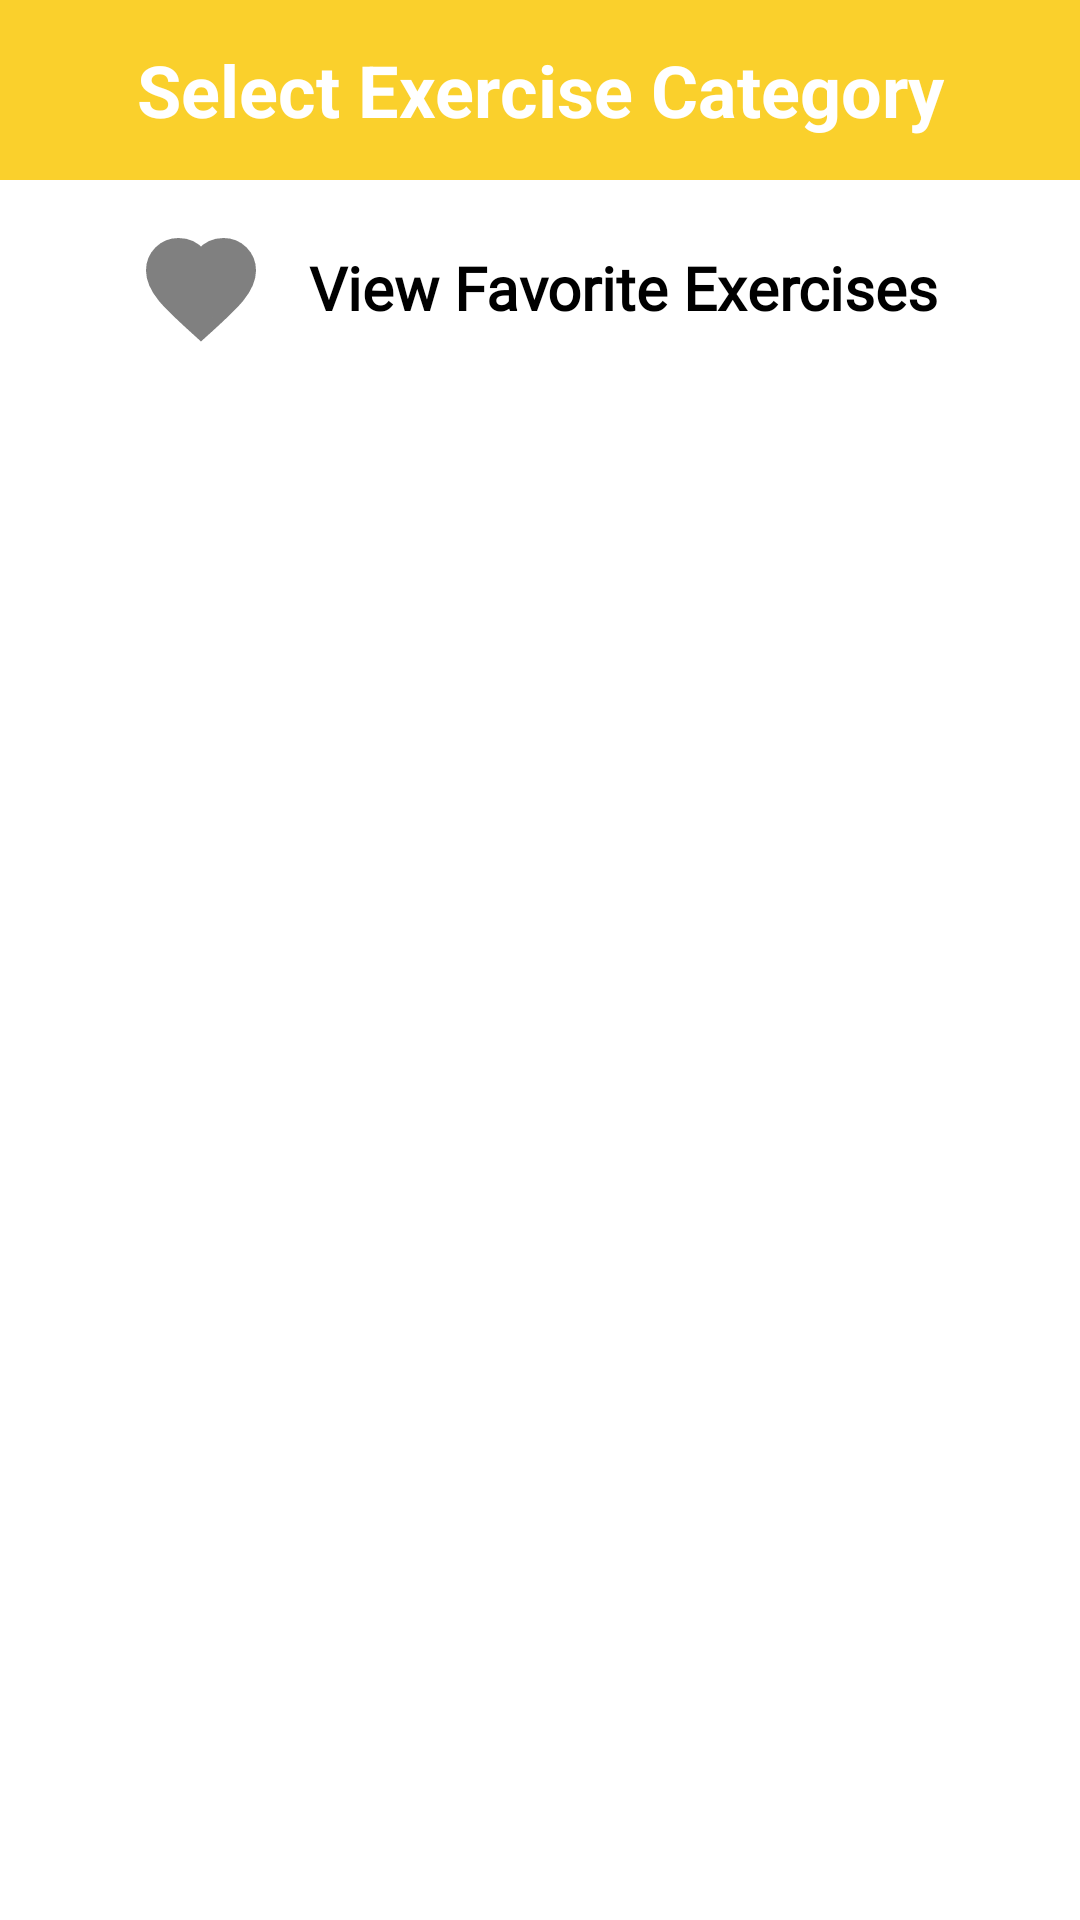

Point at icon controls on the screen. Image size 1080×1920, points as (x,y).
Favorites Icon: (201,289)
